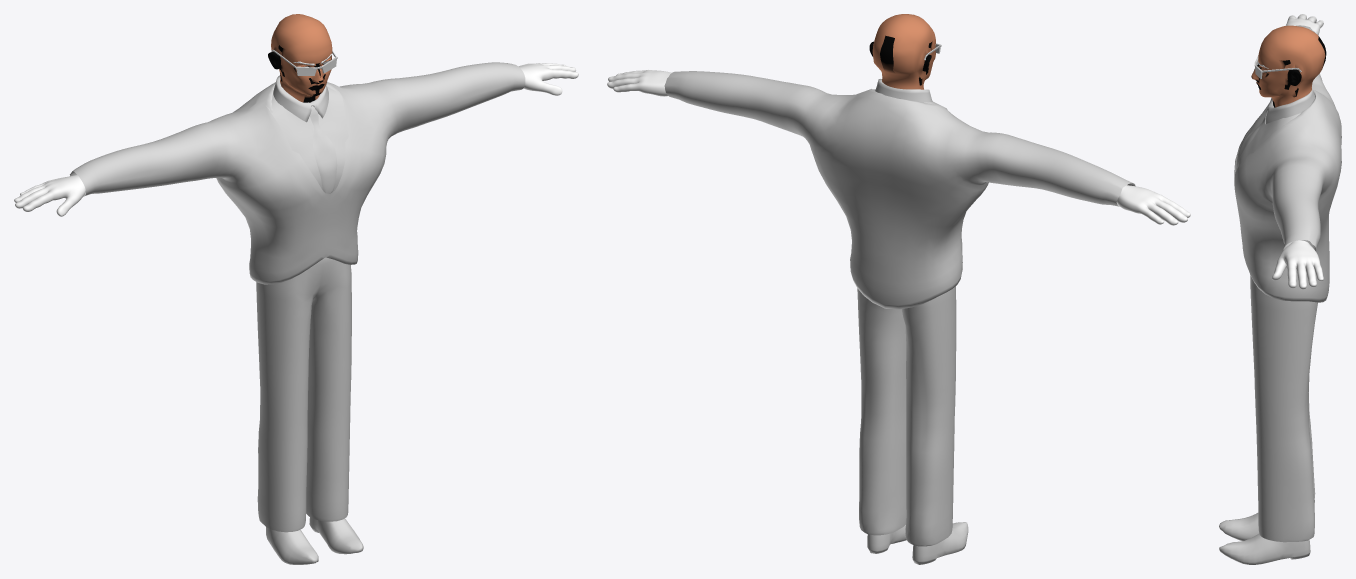
The model's file is EX_Security.fbx.
The picture shows the model from 3 angles, left to right: view 1: azimuth 30°, elevation 25°; view 2: azimuth 150°, elevation 25°; view 3: azimuth 270°, elevation 25°; orthographic projection. The views are drawn at different scales.
Visible parts, largest first — view 1: HR_T_jacket_1, HR_T_pant_1, HR_C_head_1, HR_T_shirt_1, HR_R_hand_1, HR_R_shoes_1, HR_T_tie_1, HR_L_shoes_1, HR_L_hand_1, HR_T_collar_1; view 2: HR_T_jacket_1, HR_T_pant_1, HR_C_head_1, HR_R_hand_1, HR_L_hand_1, HR_R_shoes_1; view 3: HR_T_jacket_1, HR_T_pant_1, HR_C_head_1, HR_L_shoes_1, HR_L_hand_1, HR_T_shirt_1, HR_R_shoes_1, HR_T_collar_1, HR_R_hand_1, HR_T_tie_1, HR_T_glasses_1.
Boxes of the visible parts, x1,y1,x2,y2 form: HR_T_jacket_1: [70, 62, 525, 284]; HR_T_pant_1: [256, 257, 351, 532]; HR_C_head_1: [268, 14, 332, 102]; HR_T_shirt_1: [266, 87, 348, 192]; HR_R_hand_1: [14, 175, 85, 216]; HR_R_shoes_1: [266, 527, 318, 564]; HR_T_tie_1: [310, 105, 337, 193]; HR_L_shoes_1: [309, 517, 363, 554]; HR_L_hand_1: [518, 63, 578, 95]; HR_T_collar_1: [273, 75, 328, 122]; HR_T_jacket_1: [664, 71, 1135, 309]; HR_T_pant_1: [857, 286, 956, 546]; HR_C_head_1: [869, 14, 935, 89]; HR_R_hand_1: [1117, 185, 1190, 225]; HR_L_hand_1: [607, 70, 671, 96]; HR_R_shoes_1: [912, 522, 968, 564]; HR_T_jacket_1: [1234, 25, 1341, 302]; HR_T_pant_1: [1250, 274, 1317, 542]; HR_C_head_1: [1251, 25, 1326, 107]; HR_L_shoes_1: [1219, 534, 1310, 564]; HR_L_hand_1: [1272, 240, 1323, 289]; HR_T_shirt_1: [1237, 106, 1300, 168]; HR_R_shoes_1: [1219, 513, 1259, 540]; HR_T_collar_1: [1265, 88, 1315, 124]; HR_R_hand_1: [1285, 14, 1323, 34]; HR_T_tie_1: [1236, 113, 1266, 170]; HR_T_glasses_1: [1254, 56, 1301, 78].
Size of the model in its own units: 201 by 179 by 38.27.
